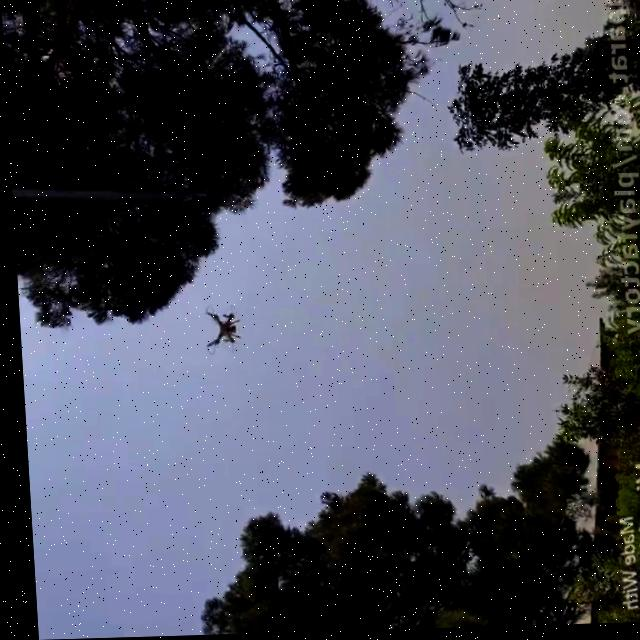drone: (195, 303, 238, 360)
